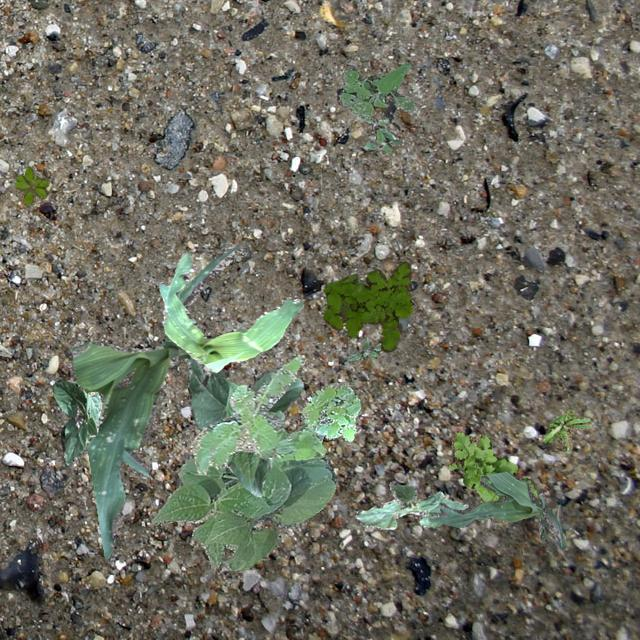crop: (70, 242, 242, 558), (148, 430, 336, 570), (158, 250, 302, 372), (186, 368, 302, 496), (428, 470, 568, 550), (354, 479, 466, 528), (52, 378, 102, 464)
weed: (188, 354, 326, 474), (322, 260, 412, 350), (446, 430, 536, 502), (336, 60, 416, 116), (300, 384, 360, 441), (542, 408, 590, 452), (12, 166, 48, 204), (362, 115, 398, 152), (346, 340, 381, 360)
